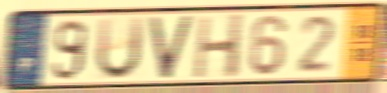2: (295, 13, 340, 75)
6: (246, 13, 290, 78)
9: (49, 18, 89, 82)
H: (191, 11, 247, 80)
U: (93, 14, 147, 83)
V: (147, 13, 196, 82)
